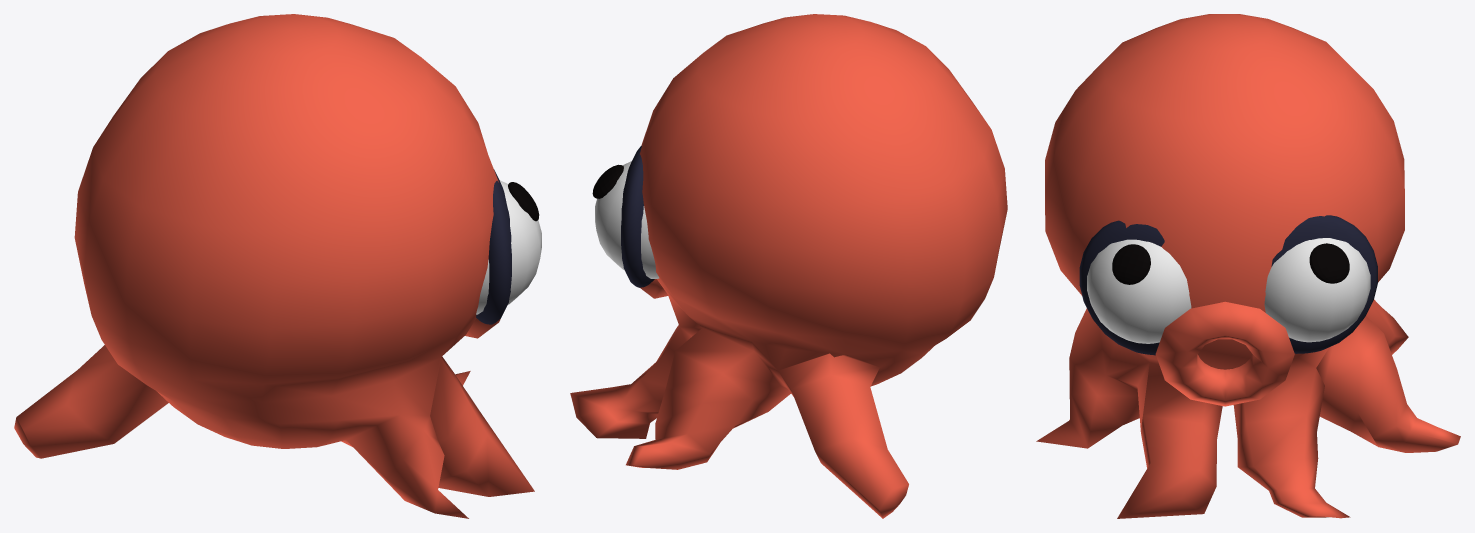
The model's file is octopus.fbx.
3 views of the same model, side by side, from view 1: azimuth 30°, elevation 25°; view 2: azimuth 150°, elevation 25°; view 3: azimuth 270°, elevation 25° (orthographic). The views are drawn at different scales.
Parts seen in each view (by area): view 1: 球体.012, 球体.015, 球体.014; view 2: 球体.012, 球体.017, 球体.016, 球体.043; view 3: 球体.012, 环体.002, 球体.016, 球体.014, 球体.017, 球体.015, 球体.043, 球体.042.
Part boxes in pixels (x1=…): 球体.012: x1=14, y1=14, x2=534, y2=518; 球体.015: x1=476, y1=169, x2=511, y2=324; 球体.014: x1=476, y1=180, x2=541, y2=314; 球体.012: x1=570, y1=14, x2=1007, y2=518; 球体.017: x1=621, y1=145, x2=654, y2=287; 球体.016: x1=595, y1=161, x2=659, y2=278; 球体.043: x1=592, y1=164, x2=623, y2=198; 球体.012: x1=1036, y1=14, x2=1460, y2=518; 环体.002: x1=1155, y1=301, x2=1294, y2=406; 球体.016: x1=1264, y1=238, x2=1370, y2=342; 球体.014: x1=1087, y1=239, x2=1191, y2=343; 球体.017: x1=1271, y1=215, x2=1377, y2=353; 球体.015: x1=1079, y1=220, x2=1164, y2=355; 球体.043: x1=1309, y1=243, x2=1349, y2=283; 球体.042: x1=1112, y1=244, x2=1150, y2=284.
Bounding box in the file's own units: 262 × 282 × 259.
